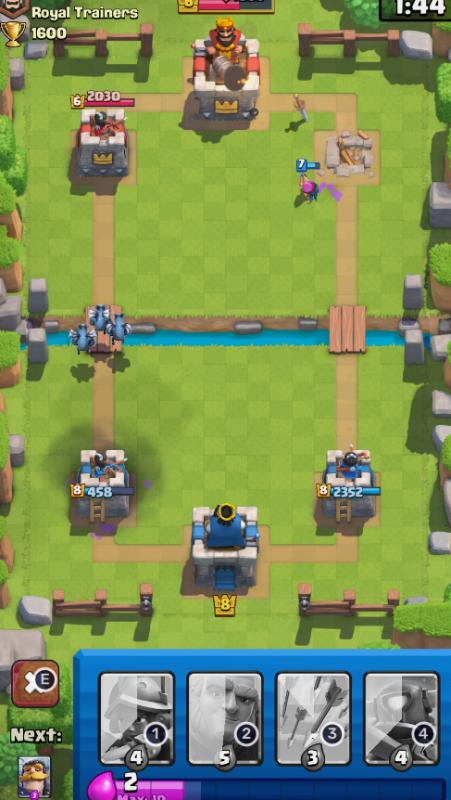archere: (296, 155, 334, 203)
gargouille: (73, 298, 124, 330), (105, 313, 145, 344), (64, 321, 99, 348)
